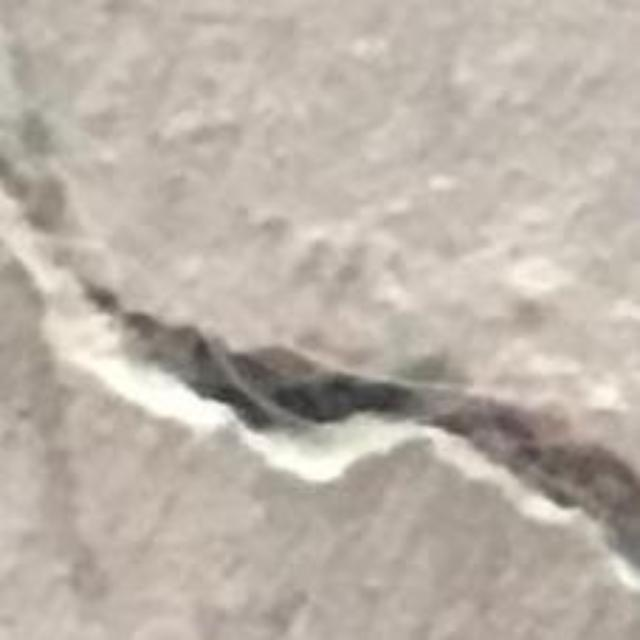crack: (0, 156, 639, 580)
